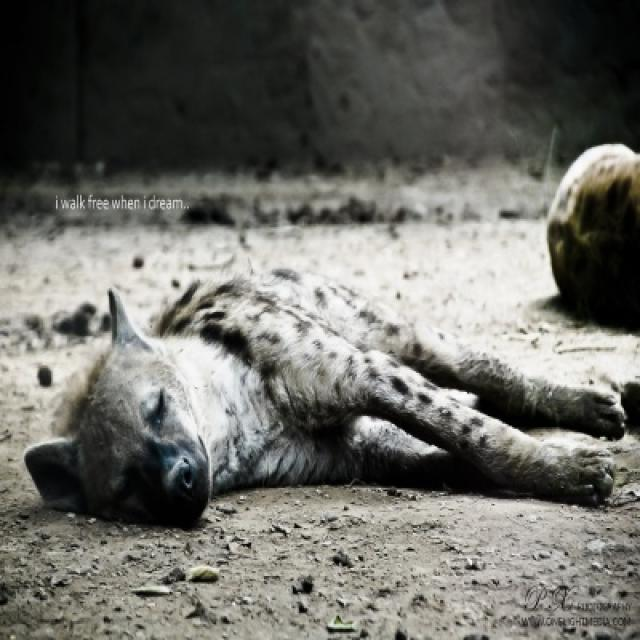hyena: (24, 272, 637, 531)
